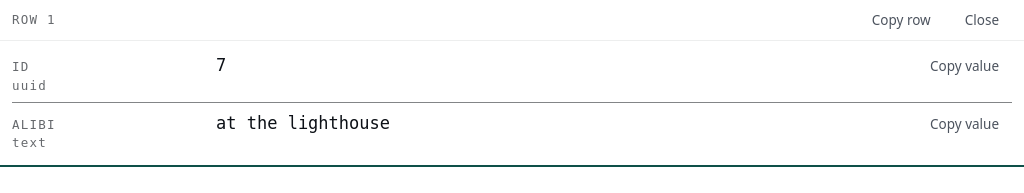
Test: taking a value out of the page › says so, and throws nothing, when the copy is refused
Click the button "Copy row": (901, 20) [859,6,944,34]
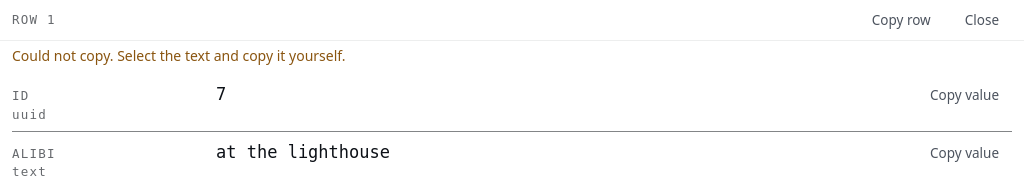
Expected: the message reads "Could not copy. Select the text and copy it yourself.", [12,46,346,65]
